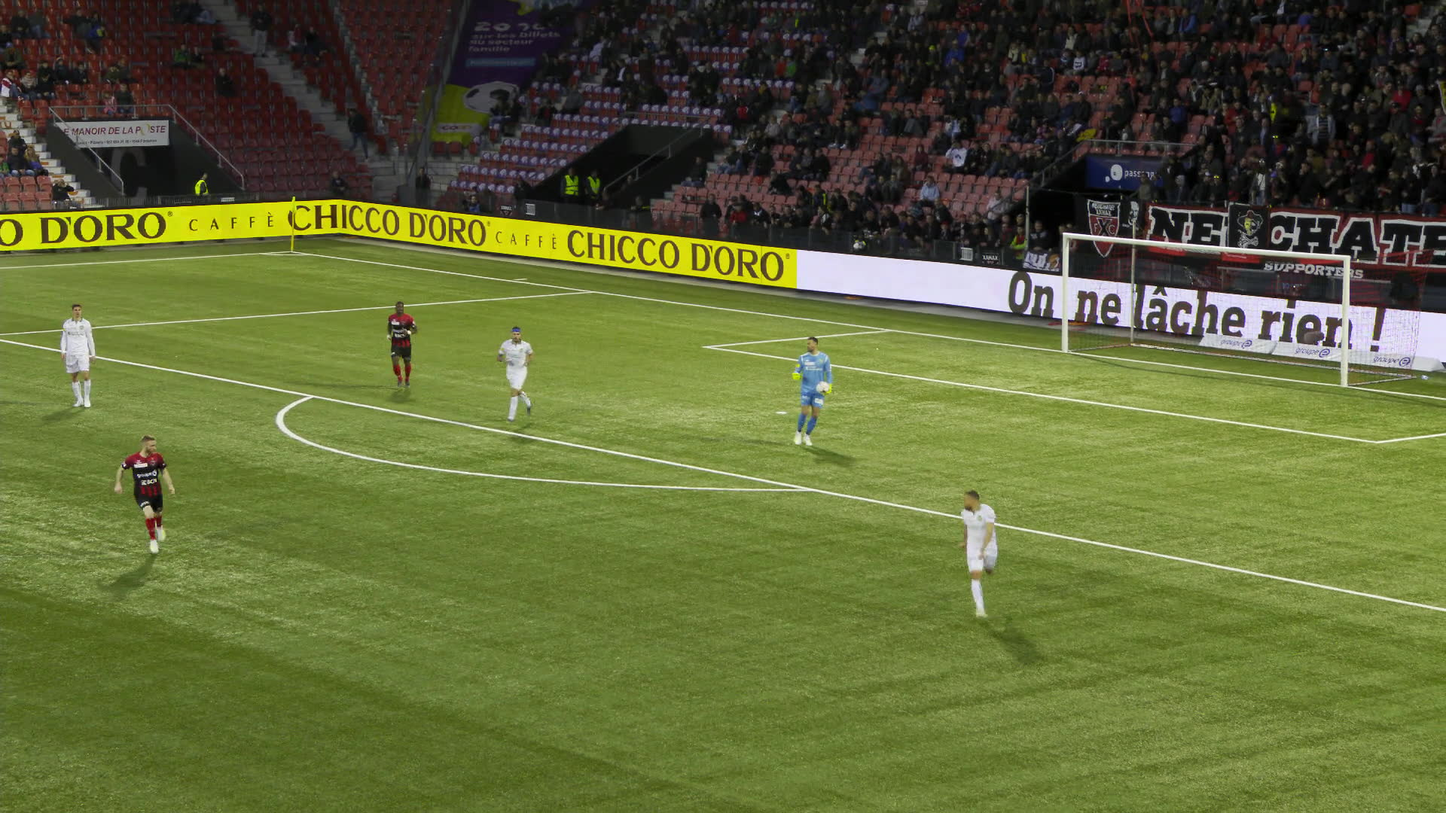ball: (815, 382, 827, 394)
player: (117, 437, 176, 554), (955, 487, 996, 609), (788, 339, 831, 448), (61, 304, 94, 407), (499, 328, 533, 422), (386, 303, 418, 388)
